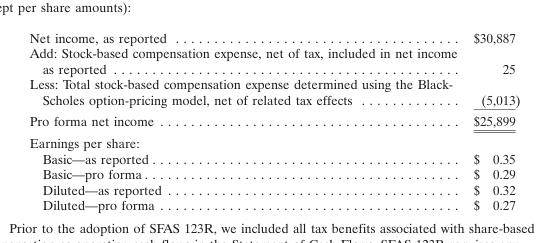table: (28, 29, 519, 212)
table column: (28, 29, 464, 212), (464, 29, 519, 212)
table projected row header: (28, 131, 519, 150)
table row: (28, 76, 519, 109), (28, 45, 519, 76), (28, 109, 519, 131), (28, 131, 519, 150), (28, 29, 519, 45), (28, 165, 519, 181), (28, 196, 519, 212), (28, 150, 519, 165), (28, 181, 519, 196)
